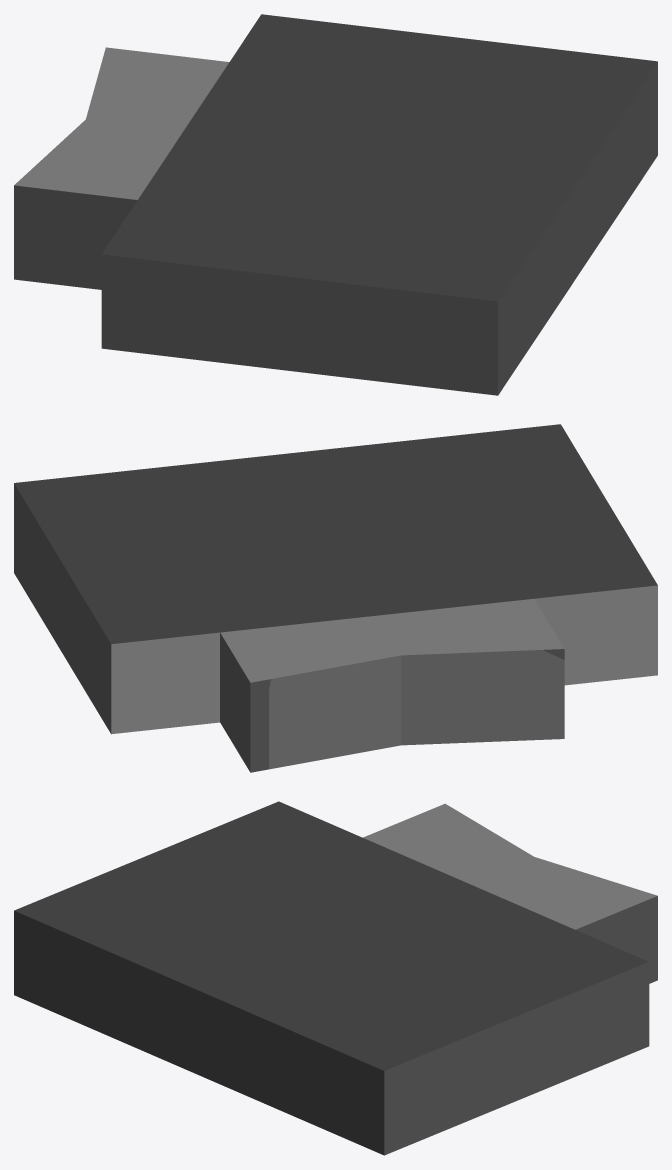
Rendered from solar panel.fbx.
3 renders of one model, top to bottom at view 1: azimuth 30°, elevation 25°; view 2: azimuth 150°, elevation 25°; view 3: azimuth 270°, elevation 25°, orthographic. The views are drawn at different scales.
Parts seen in each view (by area): view 1: body.004; view 2: body.004; view 3: body.004.
Part boxes in pixels (x1,y1,x2,y2): body.004: (14, 14, 657, 395); body.004: (14, 424, 657, 772); body.004: (14, 801, 657, 1155).
Size of the model in its own units: 55.32 by 8.09 by 55.85.
Materials: 1 (1 with a texture image).
